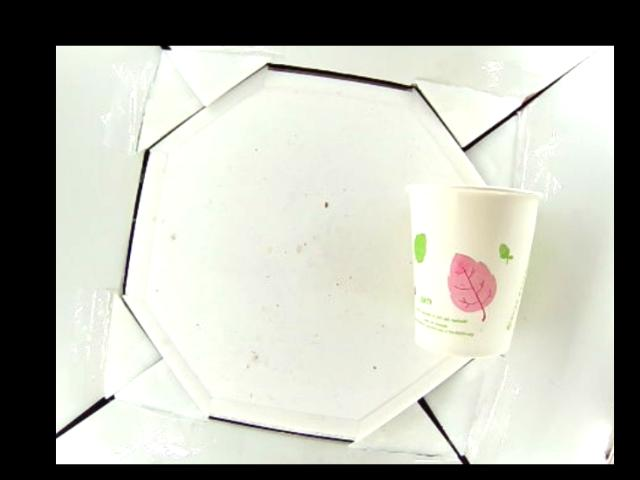Cup: (407, 181, 540, 358)
